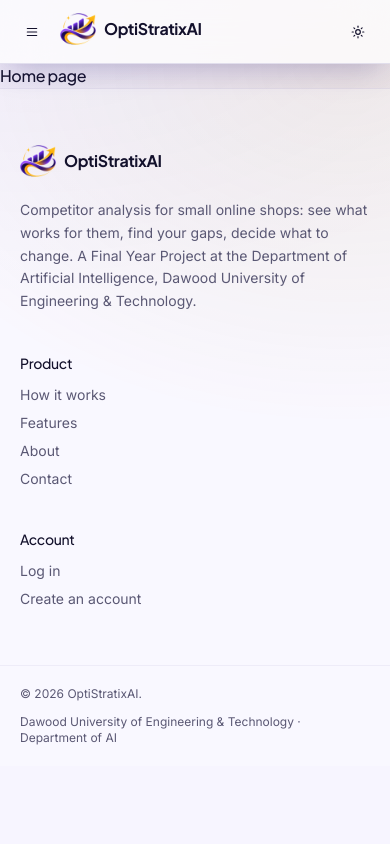
Test: marketing mobile drawer › opens from the menu button
Click the button named "Open navigation" at (32, 32), box [16,16,48,48]
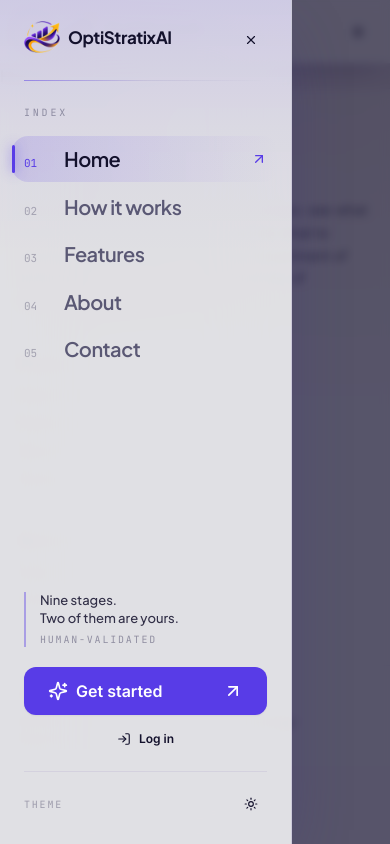
Expected: the dialog named "navigation" is shown
